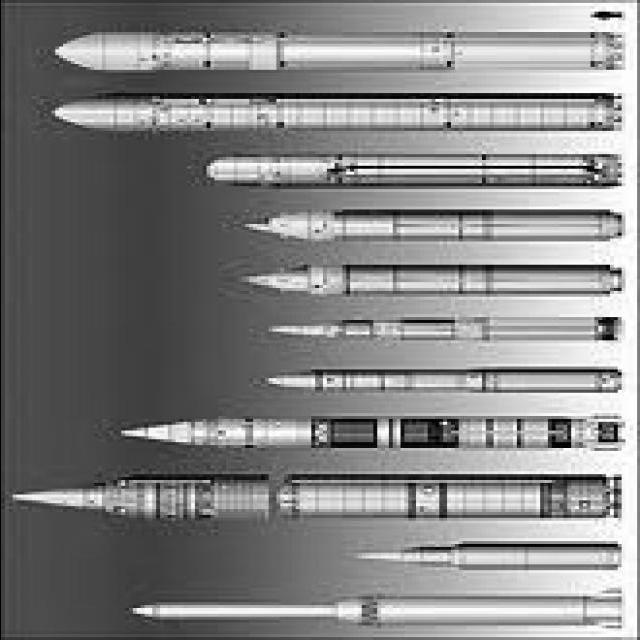missile: (28, 15, 626, 78), (0, 475, 626, 528), (39, 91, 621, 137), (117, 414, 630, 458), (198, 148, 621, 198), (118, 593, 630, 631), (317, 535, 633, 580), (263, 365, 629, 393)
